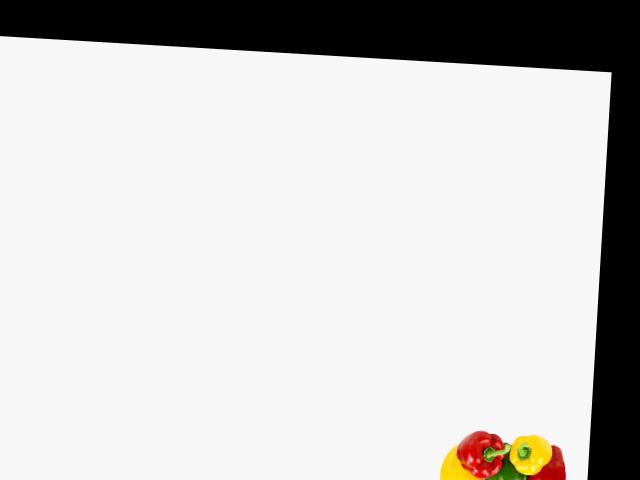bell_pepper: (526, 450, 570, 480)
